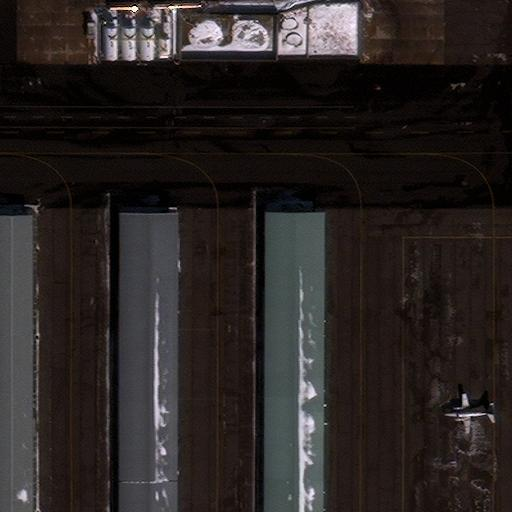Small Civil Transport: (444, 392, 494, 433)
